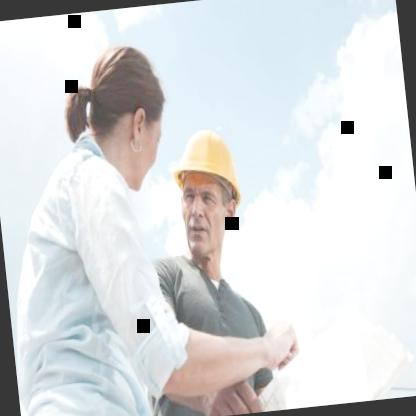head: (69, 37, 176, 200)
helmet: (164, 108, 258, 275)
